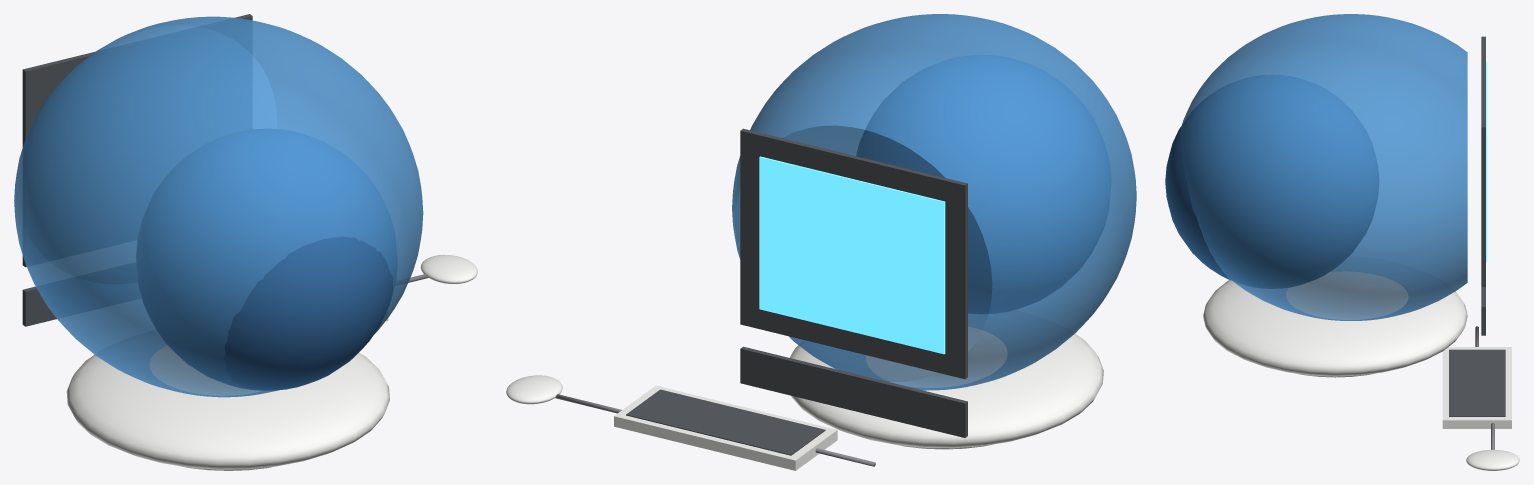
File: imac_g3.glb
3 views of the same model, side by side, from view 1: azimuth 30°, elevation 25°; view 2: azimuth 150°, elevation 25°; view 3: azimuth 270°, elevation 25° (orthographic). The views are drawn at different scales.
Parts seen in each view (by area): view 1: iMac_Body, iMac_Back, iMac_StandBall, iMac_Bezel, Mouse, iMac_Chin; view 2: iMac_Body, iMac_Back, iMac_Screen, iMac_Bezel, iMac_StandBall, iMac_Chin, Keys, Keyboard, Mouse; view 3: iMac_Body, iMac_Back, iMac_StandBall, Keys, Keyboard, iMac_Bezel, Mouse, iMac_Screen.
Part boxes in pixels (left/top/right/bottom): iMac_Body: left=14, top=16, right=423, bottom=397; iMac_Back: left=136, top=129, right=397, bottom=390; iMac_StandBall: left=66, top=345, right=389, bottom=469; iMac_Bezel: left=22, top=14, right=252, bottom=267; Mouse: left=420, top=254, right=477, bottom=283; iMac_Chin: left=22, top=286, right=56, bottom=326; iMac_Body: left=732, top=14, right=1136, bottom=390; iMac_Back: left=856, top=55, right=1111, bottom=313; iMac_Screen: left=759, top=156, right=945, bottom=354; iMac_Bezel: left=740, top=128, right=967, bottom=379; iMac_StandBall: left=790, top=326, right=1103, bottom=448; iMac_Chin: left=740, top=346, right=967, bottom=437; Keys: left=626, top=389, right=825, bottom=455; Keyboard: left=614, top=385, right=837, bottom=470; Mouse: left=506, top=375, right=562, bottom=404; iMac_Body: left=1181, top=14, right=1467, bottom=320; iMac_Back: left=1165, top=75, right=1379, bottom=288; iMac_StandBall: left=1203, top=271, right=1467, bottom=376; Keys: left=1449, top=349, right=1505, bottom=416; Keyboard: left=1442, top=347, right=1511, bottom=428; iMac_Bezel: left=1481, top=36, right=1485, bottom=286; Mouse: left=1466, top=449, right=1519, bottom=470; iMac_Screen: left=1486, top=61, right=1487, bottom=261.
Size of the model in its own units: 1.54 by 1.08 by 1.12.
